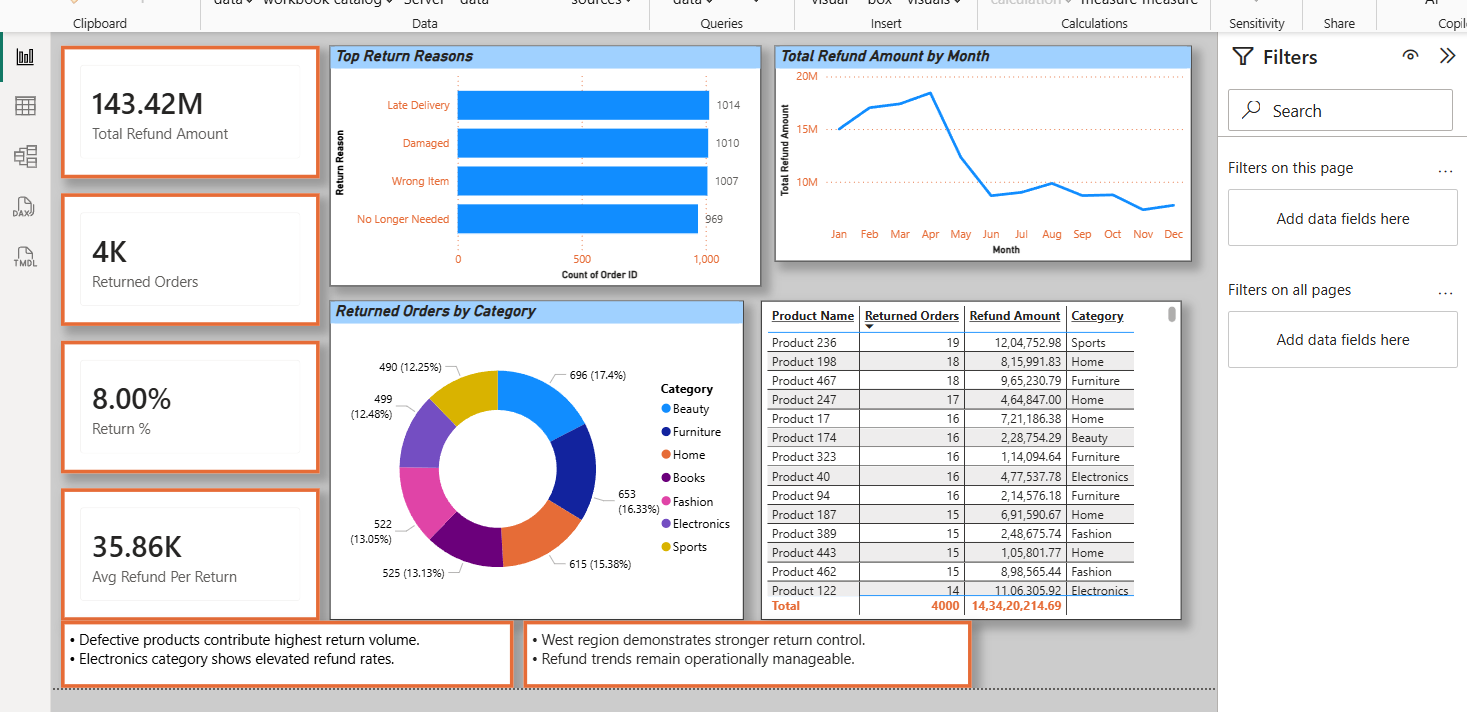

The page's visual inventory and layout, read from the dashboard file:
{"tool":"powerbi","page":{"name":"RETURNS DASHBOARD","canvas":[1280,720],"ordinal":3},"visuals":[{"type":"cardVisual","fields":{"Data":["CUSTOMER.Total Refund Amount"]},"box":[11.5,14.4,284.3,145.8],"z":0},{"type":"cardVisual","fields":{"Data":["CUSTOMER.Returned Orders"]},"box":[11.5,177.5,284.3,145.8],"z":1000},{"type":"cardVisual","fields":{"Data":["CUSTOMER.Return %"]},"box":[11.5,339.2,284.3,145.8],"z":2000},{"type":"cardVisual","fields":{"Data":["CUSTOMER.Avg Refund Per Return"]},"box":[11.5,500.9,284.3,145.8],"z":3000},{"type":"clusteredBarChart","title":"Top Return Reasons","fields":{"Category":["RETURN.Return Reason"],"Y":["CountNonNull(RETURN.Order ID)"]},"box":[306,14.4,473.4,264.1],"z":4000},{"type":"lineChart","fields":{"Category":["Date Table.Month"],"Y":["CUSTOMER.Total Refund Amount"]},"box":[793.9,14.4,457.6,236.7],"z":5000},{"type":"tableEx","fields":{"Values":["PRODUCT.Product Name","CUSTOMER.Returned Orders","CUSTOMER.Total Refund Amount","PRODUCT.Category"]},"box":[779.4,294.5,461.9,350.7],"z":6000},{"type":"donutChart","fields":{"Category":["PRODUCT.Category"],"Y":["CUSTOMER.Returned Orders"]},"box":[306,294.5,454.7,350.7],"z":7000},{"type":"textbox","box":[11.5,646.6,496.5,73.6],"z":8000},{"type":"textbox","box":[518.2,646.6,492.2,73.6],"z":9000}]}

Visuals, with their boxes on the page's 1280x720 design canvas (x1, y1, x2, y2). These are canvas units, not pixel positions in the 1467x712 screenshot, which may show the page scaled, cropped or inside an application window:
cardVisual - CUSTOMER.Total Refund Amount: (12,14,296,160)
cardVisual - CUSTOMER.Returned Orders: (12,178,296,323)
cardVisual - CUSTOMER.Return %: (12,339,296,485)
cardVisual - CUSTOMER.Avg Refund Per Return: (12,501,296,647)
"Top Return Reasons" clusteredBarChart: (306,14,779,278)
lineChart - Date Table.Month x CUSTOMER.Total Refund Amount: (794,14,1252,251)
tableEx - PRODUCT.Product Name x CUSTOMER.Returned Orders: (779,294,1241,645)
donutChart - PRODUCT.Category x CUSTOMER.Returned Orders: (306,294,761,645)
textbox: (12,647,508,720)
textbox: (518,647,1010,720)
